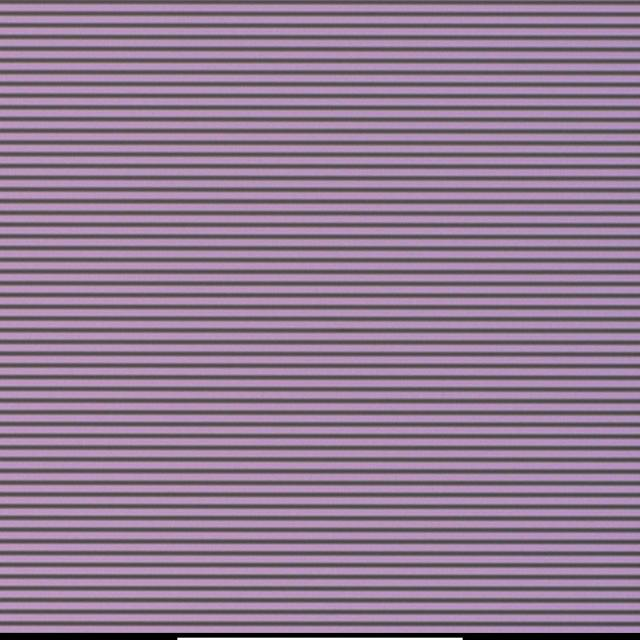nonvisual: (312, 287, 323, 295)
